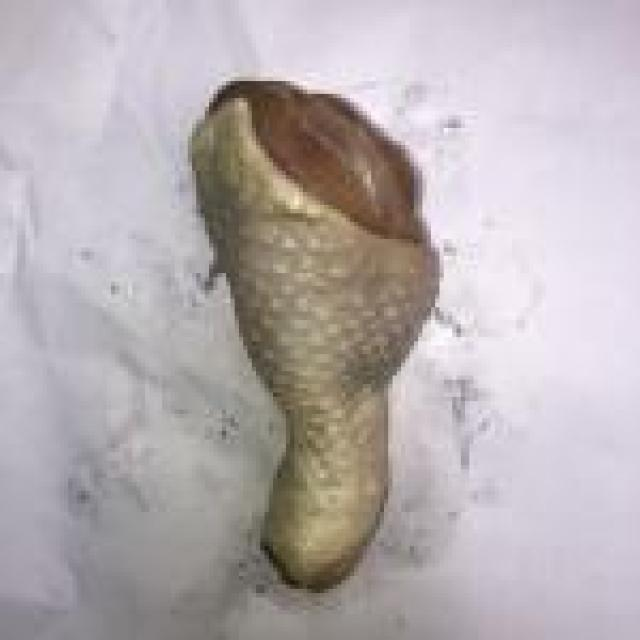leg: (196, 68, 446, 598)
